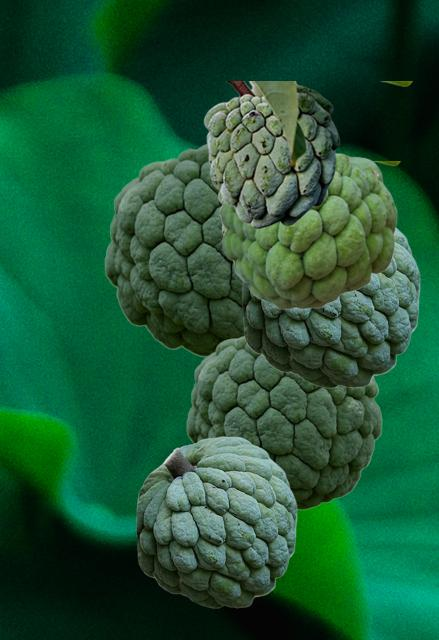atis: (186, 335, 381, 509), (203, 81, 411, 228), (104, 142, 243, 357), (242, 228, 419, 387), (219, 151, 396, 308), (136, 436, 296, 607)
